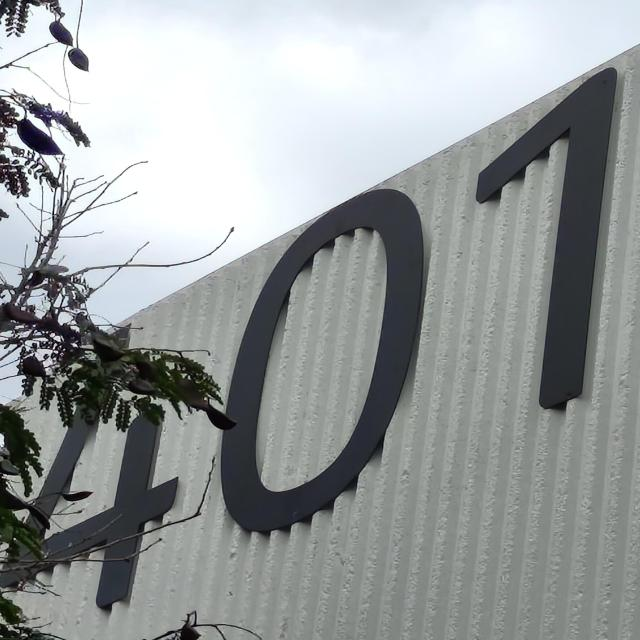character: (213, 187, 436, 540), (466, 63, 628, 416), (0, 311, 186, 610)
